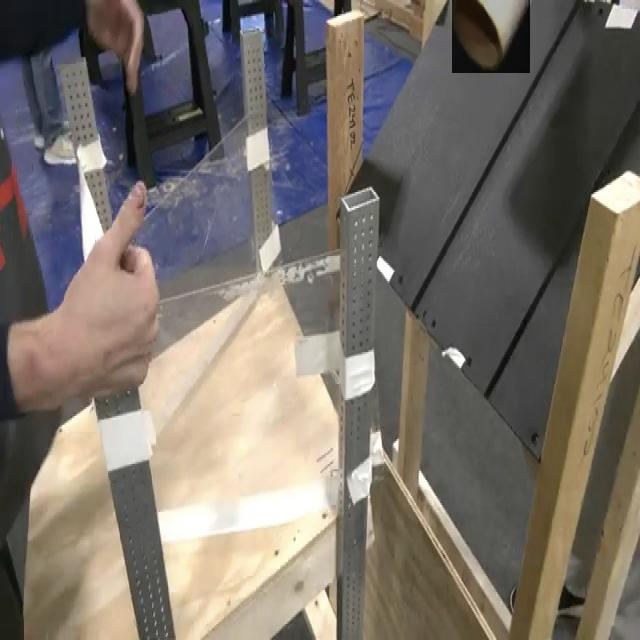Coral: (452, 0, 530, 73)
